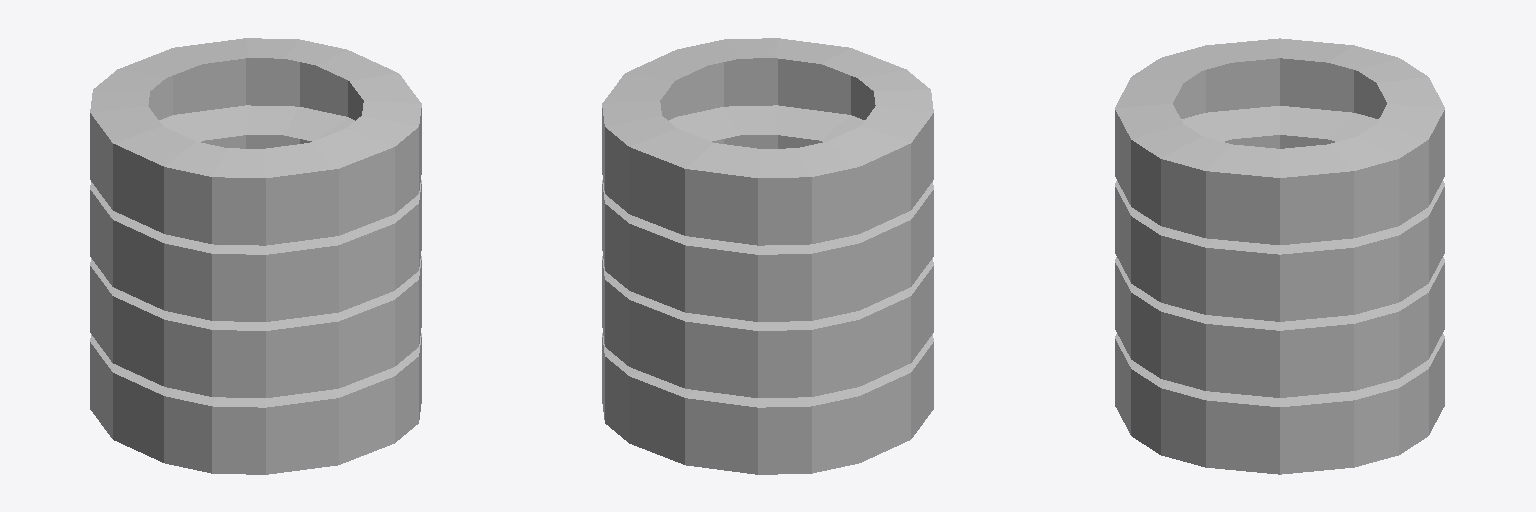
File: tyres.obj
3 renders of one model, left to right at view 1: azimuth 30°, elevation 25°; view 2: azimuth 150°, elevation 25°; view 3: azimuth 270°, elevation 25°, orthographic.
Visible parts, largest first — view 1: Plane; view 2: Plane; view 3: Plane.
Boxes of the visible parts, x1=… form: Plane: x1=90, y1=38, x2=421, y2=474; Plane: x1=602, y1=38, x2=933, y2=474; Plane: x1=1115, y1=38, x2=1444, y2=474.
Bounding box in the file's own units: 1 × 1.02 × 1.